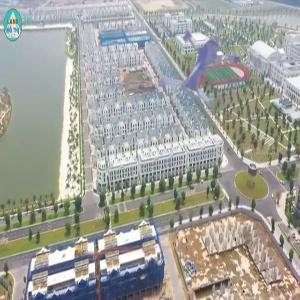drone: (155, 9, 257, 111)
